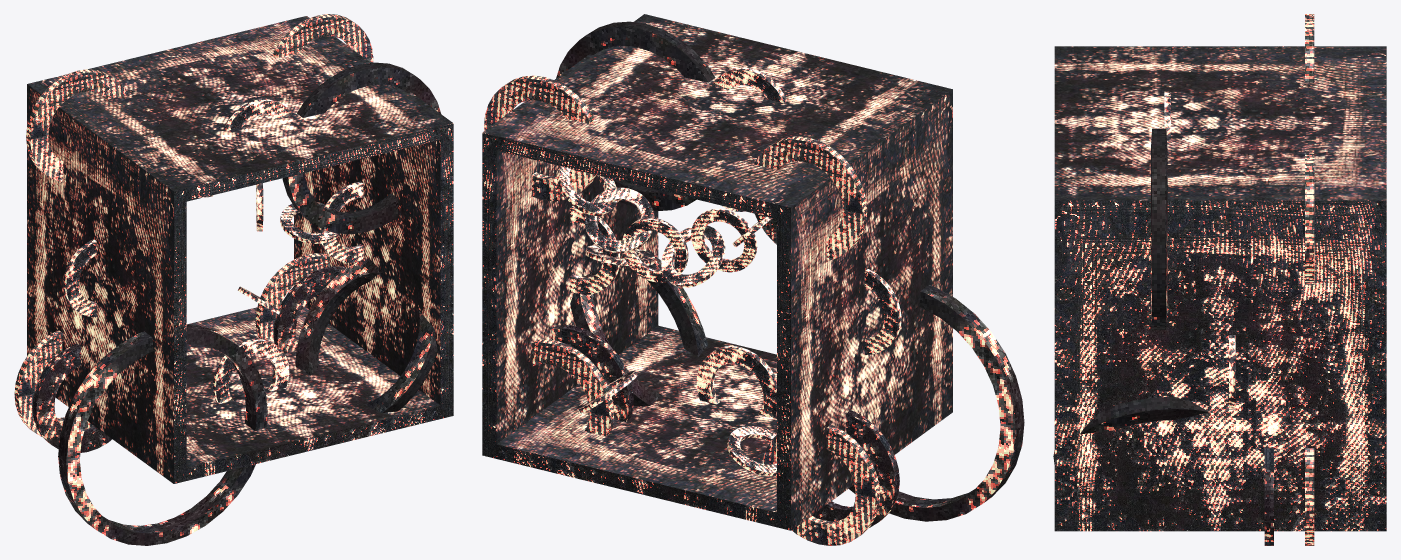
The model's file is square_drain_adapter.glb.
3 renders of one model, left to right at view 1: azimuth 30°, elevation 25°; view 2: azimuth 150°, elevation 25°; view 3: azimuth 270°, elevation 25°, orthographic. The views are drawn at different scales.
Visible parts, largest first — view 1: Cylinder.005, Cylinder.006; view 2: Cylinder.005, Cylinder.006; view 3: Cylinder.005, Cylinder.006.
Part boxes in pixels (box(x1,y1,x2,y2)): Cylinder.005: box(27, 16, 453, 483); Cylinder.006: box(14, 14, 440, 545); Cylinder.005: box(482, 14, 952, 530); Cylinder.006: box(484, 21, 1024, 545); Cylinder.005: box(1054, 46, 1386, 531); Cylinder.006: box(1053, 14, 1314, 545).
Size of the model in its own units: 4.71 by 4.56 by 3.01.
Materials: 1 (1 with a texture image).
